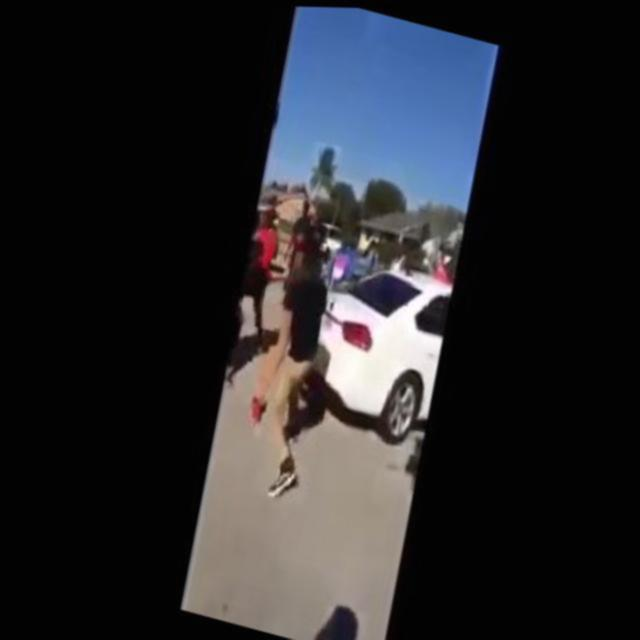fight: (220, 224, 358, 506)
